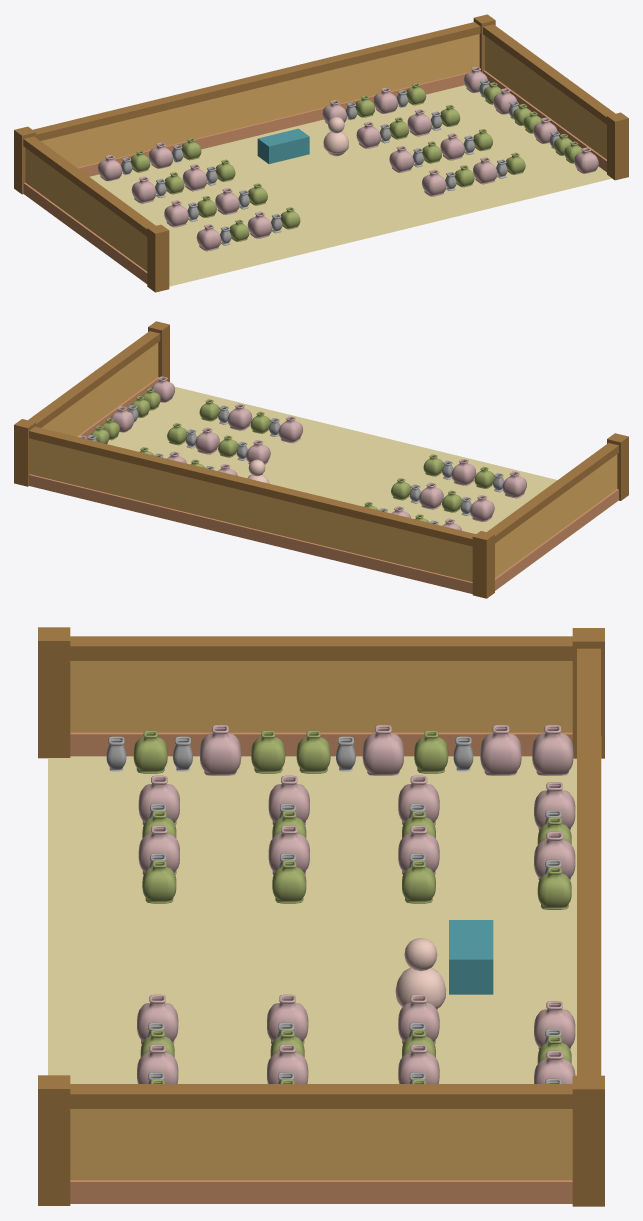
Rendered from Shop.fbx.
3 views of the same model, one above another, from view 1: azimuth 30°, elevation 25°; view 2: azimuth 150°, elevation 25°; view 3: azimuth 270°, elevation 25° (orthographic). The views are drawn at different scales.
Parts seen in each view (by area): view 1: pPlane1, polySurface53, polySurface52, polySurface61, polySurface57, polySurface55, polySurface51, polySurface58, pCube48, polySurface56, pCube53, polySurface155 (+18 smaller); view 2: pPlane1, polySurface53, polySurface52, polySurface51, polySurface57, polySurface61, polySurface55, polySurface58, polySurface56, polySurface156, polySurface176, polySurface158 (+7 smaller); view 3: pPlane1, polySurface52, polySurface55, polySurface57, polySurface61, polySurface56, polySurface58, pCube48, pCube53, polySurface170, polySurface171, polySurface169 (+17 smaller).
Boxes of the visible parts, x1,y1,x2,y2 form: pPlane1: [89, 85, 611, 286]; polySurface53: [40, 34, 479, 167]; polySurface52: [14, 14, 628, 292]; polySurface61: [130, 82, 582, 241]; polySurface57: [25, 148, 147, 271]; polySurface55: [485, 36, 606, 159]; polySurface51: [77, 70, 480, 176]; polySurface58: [23, 182, 147, 283]; pCube48: [257, 128, 309, 163]; polySurface56: [483, 70, 606, 171]; pCube53: [323, 116, 348, 156]; polySurface155: [407, 109, 432, 136]; pPlane1: [107, 387, 557, 533]; polySurface53: [30, 438, 472, 581]; polySurface52: [14, 321, 628, 598]; polySurface51: [29, 474, 472, 593]; polySurface57: [495, 454, 617, 577]; polySurface61: [90, 388, 494, 522]; polySurface55: [41, 342, 158, 436]; polySurface58: [495, 489, 618, 590]; polySurface56: [77, 377, 158, 439]; polySurface156: [195, 427, 219, 454]; polySurface176: [419, 482, 443, 509]; polySurface158: [278, 416, 302, 443]; pPlane1: [48, 756, 576, 1083]; polySurface52: [38, 627, 604, 1206]; polySurface55: [70, 1109, 572, 1180]; polySurface57: [70, 661, 572, 732]; polySurface61: [133, 730, 571, 1083]; polySurface56: [70, 1180, 572, 1203]; polySurface58: [70, 732, 572, 756]; pCube48: [449, 920, 493, 994]; pCube53: [395, 938, 446, 1009]; polySurface170: [480, 725, 521, 775]; polySurface171: [532, 725, 573, 775]; polySurface169: [362, 725, 403, 775].
Size of the model in its own units: 67.59 by 8.14 by 35.04.
